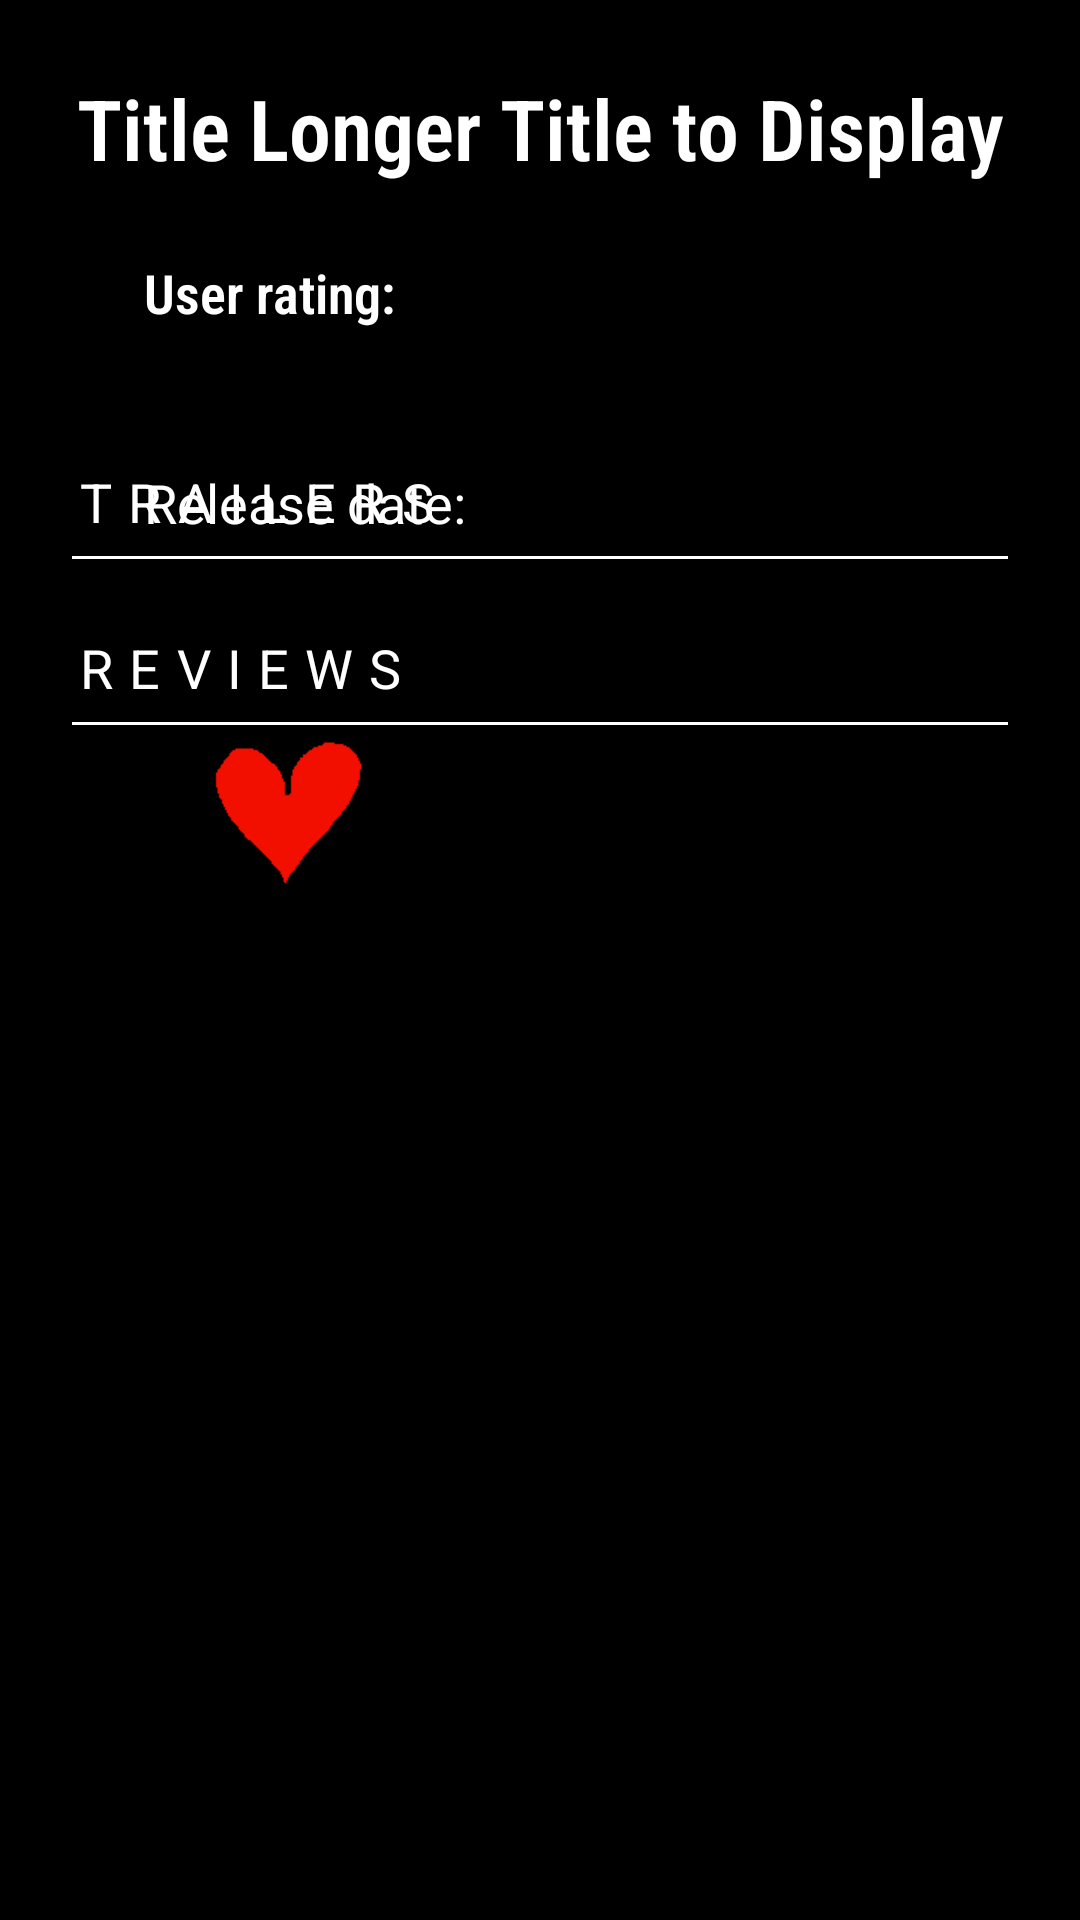

Locate icon controls on the screen. Image size 1080 x 1920, boxes as (x1, y1, x2, y2).
favorite: (215, 742, 362, 884)
